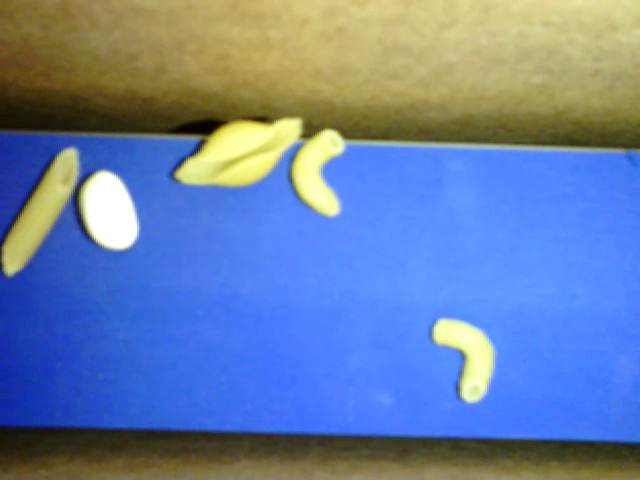elbow: (431, 317, 496, 403), (291, 128, 344, 216)
penne: (1, 146, 81, 275)
shell: (173, 116, 301, 187)
